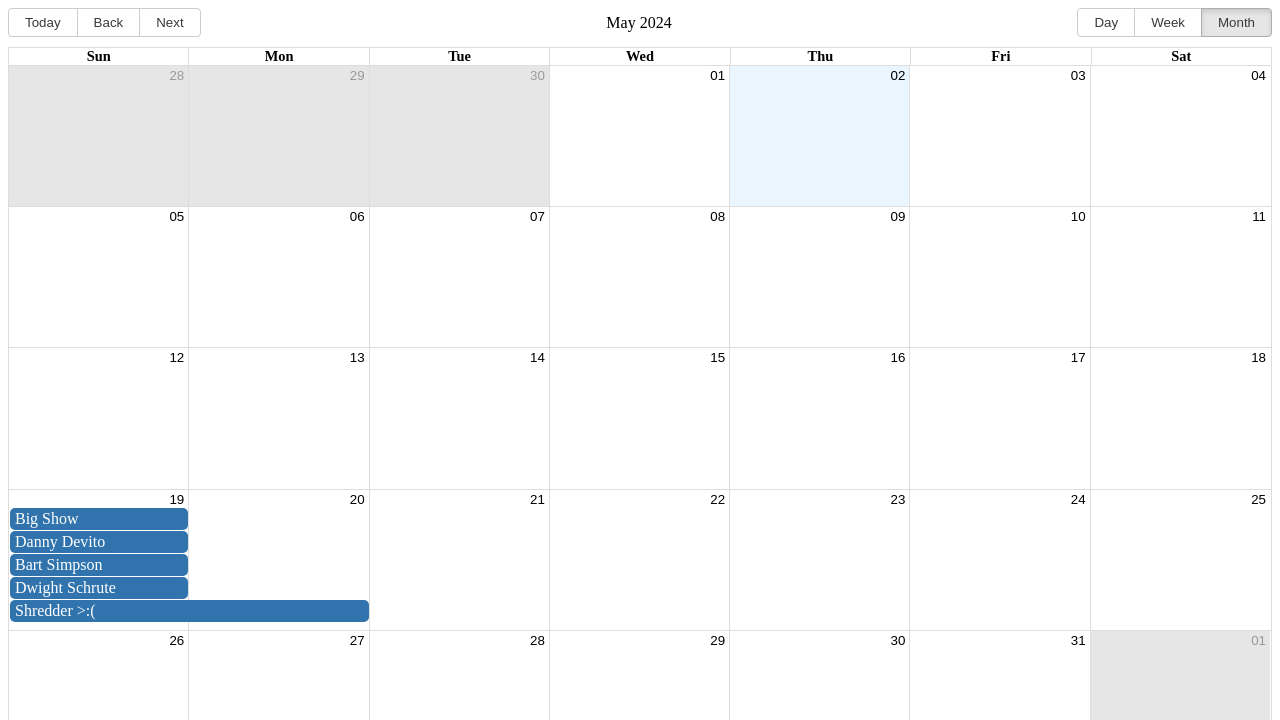
<EmployeeScheduleCalendar /> › displays shift information on event select
Click on the first event
Click the element with class "rbc-event" showing "Big Show".
click(99, 519)  # box x1=10 y1=508 x2=188 y2=530
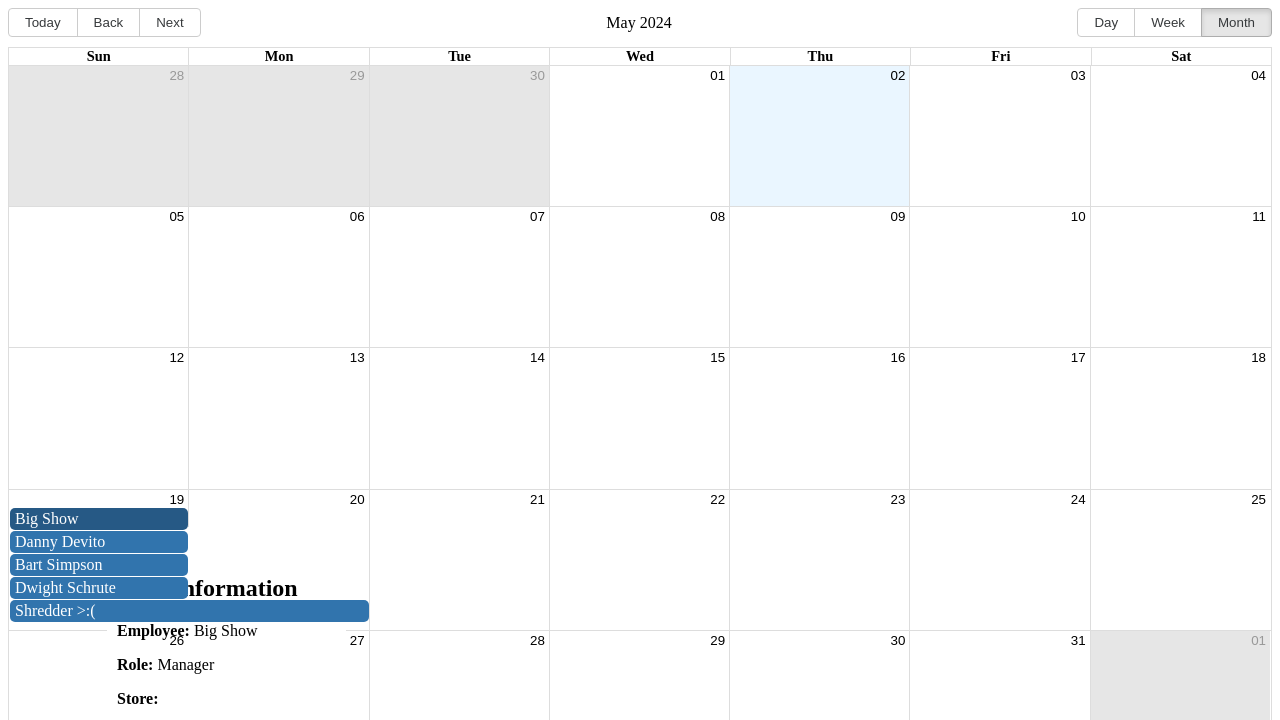
Now the element that starts with "Shift Information" is shown, box x1=107 y1=527 x2=346 y2=719
Now the text "Role:" is shown, box x1=117 y1=656 x2=153 y2=673
Now the text "Store:" is shown, box x1=117 y1=690 x2=158 y2=707
